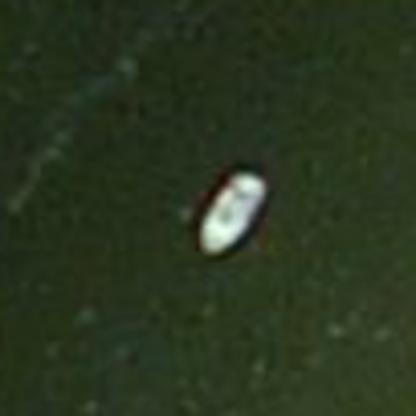ship: (185, 155, 279, 266)
